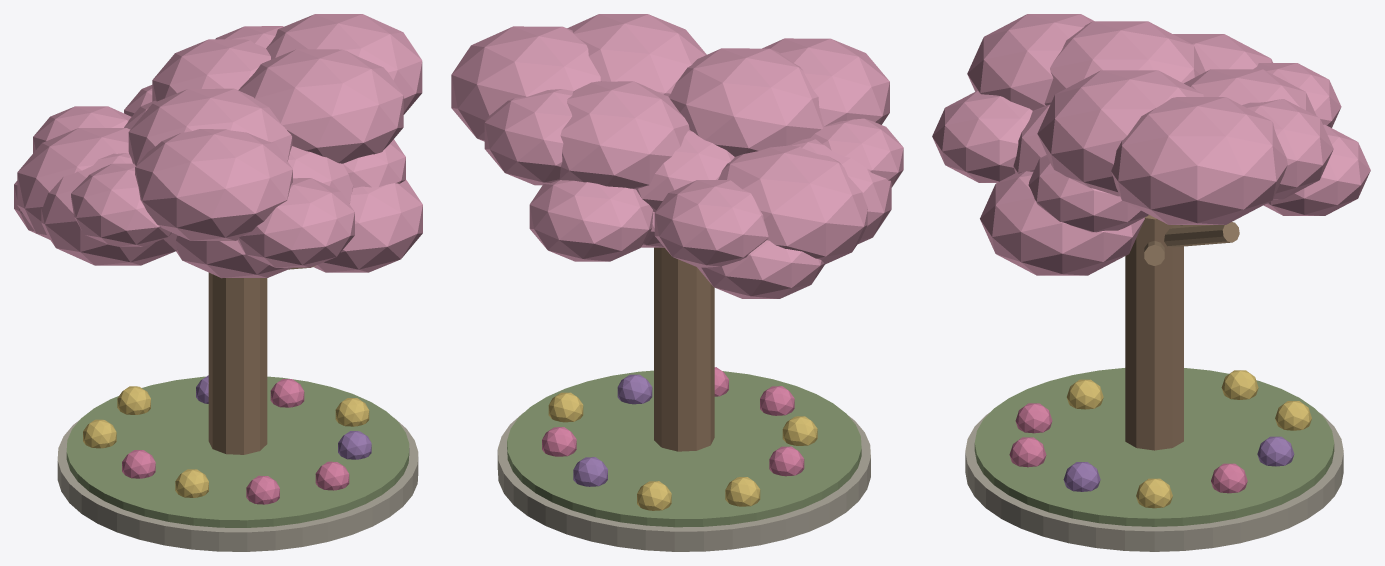
The model's file is planter-tree-3.glb.
3 views of the same model, side by side, from view 1: azimuth 30°, elevation 25°; view 2: azimuth 150°, elevation 25°; view 3: azimuth 270°, elevation 25° (orthographic). The views are drawn at different scales.
Visible parts, largest first — view 1: world; view 2: world; view 3: world.
Boxes of the visible parts, x1,y1,x2,y2 form: world: [14, 14, 422, 551]; world: [451, 14, 903, 551]; world: [932, 14, 1370, 551].
Size of the model in its own units: 1.15 by 1.15 by 1.07.
